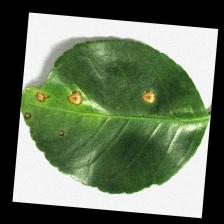canker: (31, 67, 163, 123)
